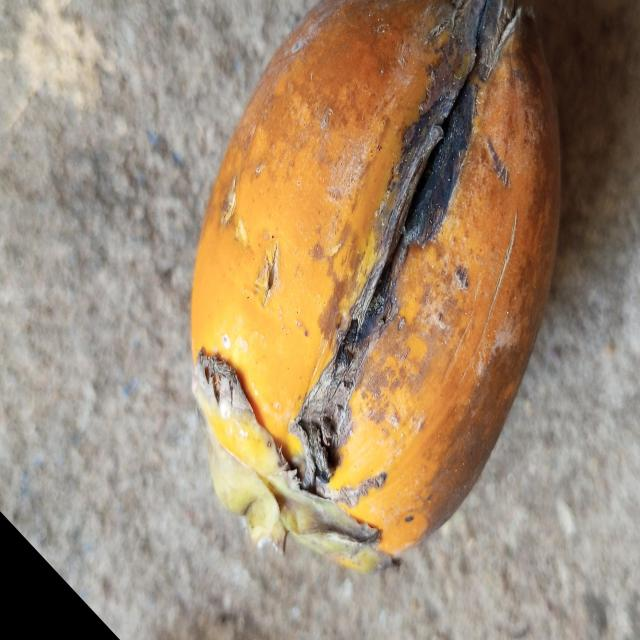damaged: (189, 0, 564, 574)
